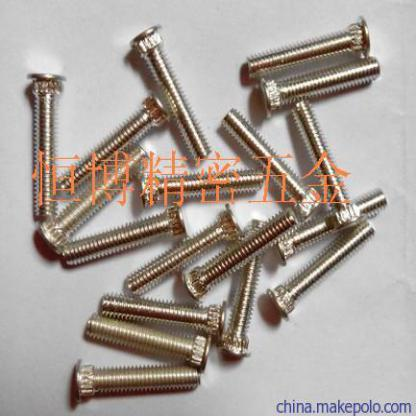FOD: (266, 219, 377, 321), (69, 357, 201, 405), (24, 70, 65, 222)
